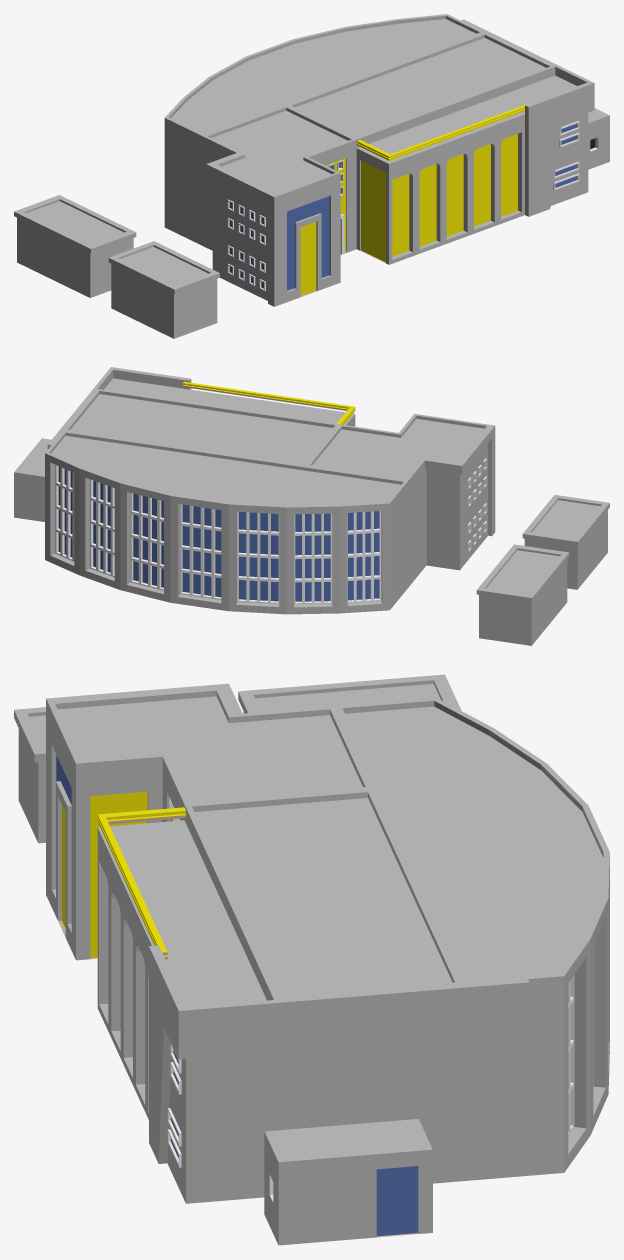
File: labo.gltf
3 views of the same model, one above another, from view 1: azimuth 30°, elevation 25°; view 2: azimuth 150°, elevation 25°; view 3: azimuth 270°, elevation 25° (orthographic). The views are drawn at different scales.
Visible parts, largest first — view 1: labo30M$$; view 2: labo30M$$; view 3: labo30M$$.
Part boxes in pixels (x1,y1,x2,y2): labo30M$$: (14, 14, 609, 338); labo30M$$: (14, 367, 609, 645); labo30M$$: (14, 674, 609, 1245).
Size of the model in its own units: 89.64 by 17.1 by 46.96.
1 material, 1 textured.
